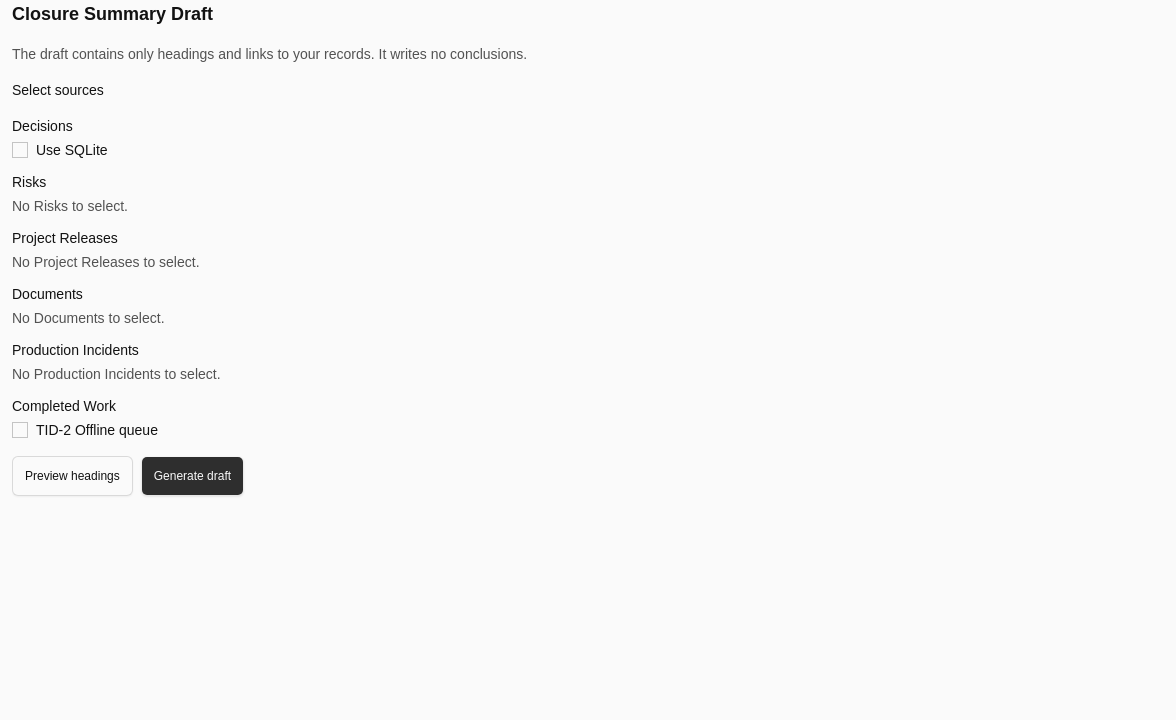
Test: the optional Planned date history is a neutral reading with no score
Click the checkbox labelled "TID-2 Offline queue" at (97, 430), box [36, 420, 158, 440]
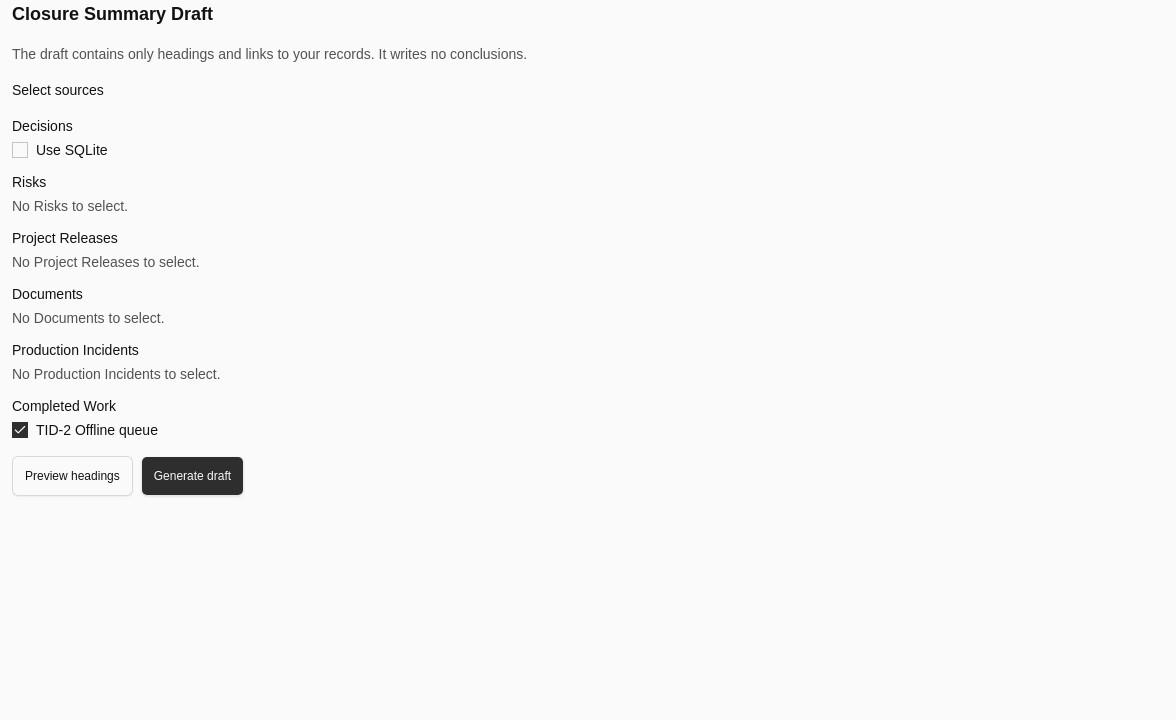
Click the button "Generate draft" at (192, 476), box [141, 456, 244, 496]
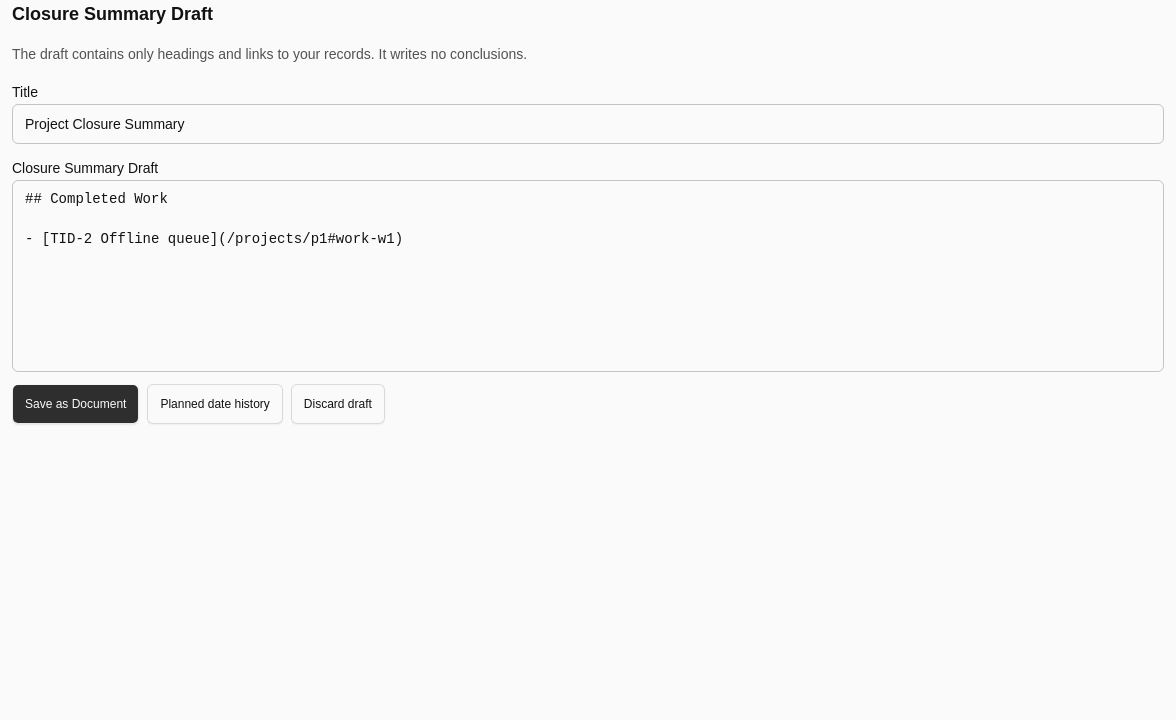
Check: the text "It is not a score." is not shown
Click the button "Planned date history" at (215, 404), box [147, 384, 283, 424]
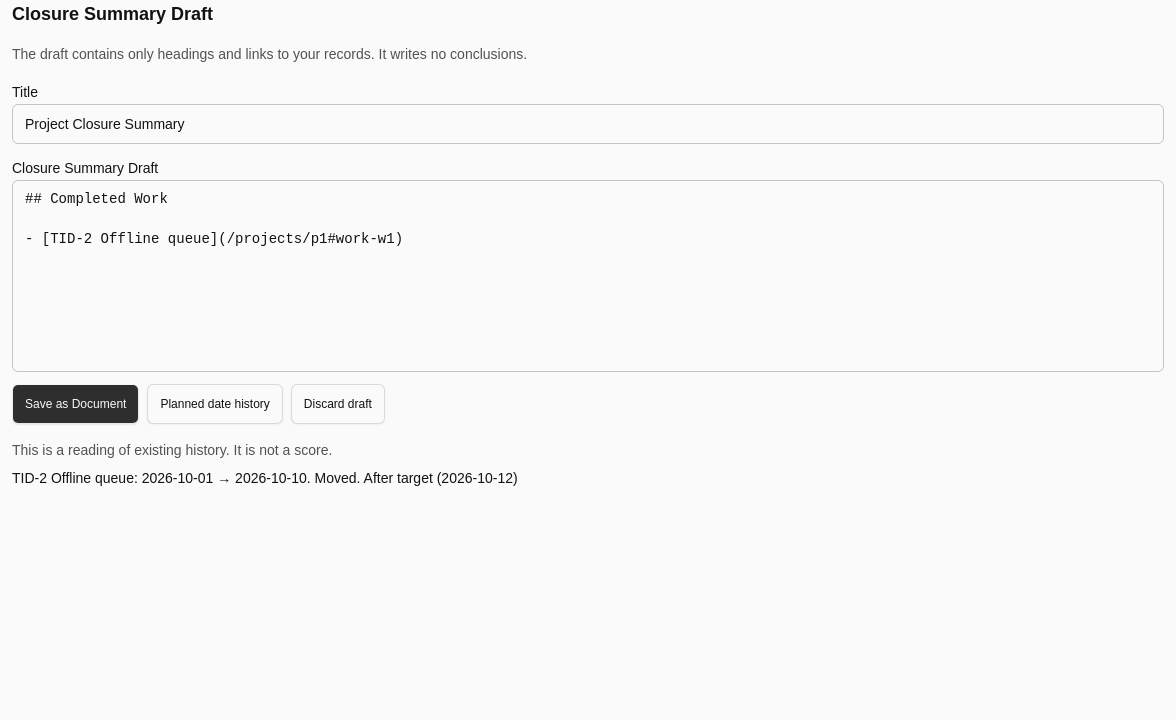
Check: the element named "Planned date history" shows "This is a reading of existing history. It is not a score.", box [12, 442, 332, 458]
Check: the element named "Planned date history" shows "2026-10-01 → 2026-10-10. Moved", box [12, 442, 518, 486]
Check: the element named "Planned date history" shows "After target (2026-10-12)", box [12, 442, 518, 486]
